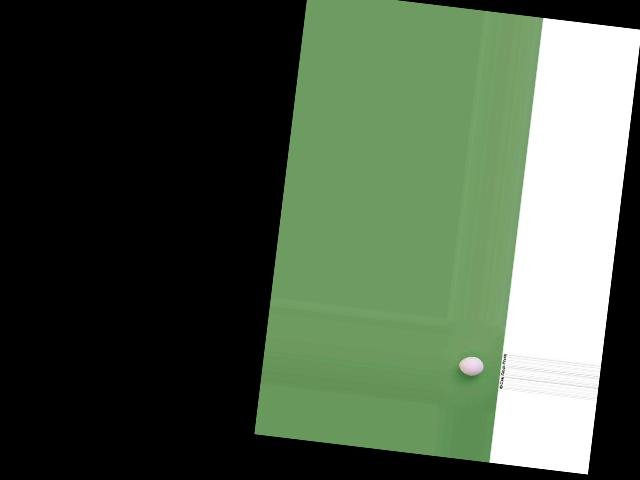egg: (458, 355, 484, 376)
